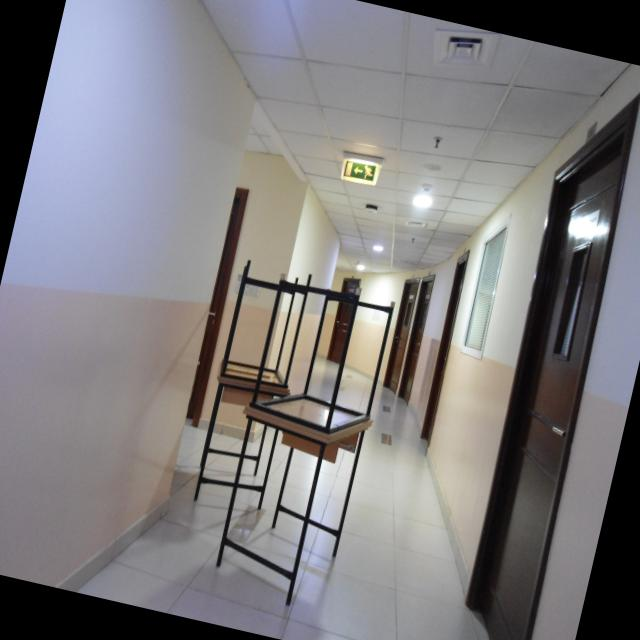door: (462, 101, 638, 640), (184, 193, 252, 436), (417, 250, 470, 459), (399, 276, 438, 400), (383, 278, 418, 394), (329, 275, 360, 363)
exitLight: (332, 154, 388, 192)
light: (407, 186, 437, 213), (368, 234, 388, 256), (351, 262, 367, 276)
table: (211, 366, 382, 612), (270, 271, 398, 441), (183, 357, 292, 506), (220, 266, 306, 390)
wall: (0, 0, 287, 607), (262, 182, 352, 380), (340, 267, 404, 376)
window: (461, 225, 514, 352)
